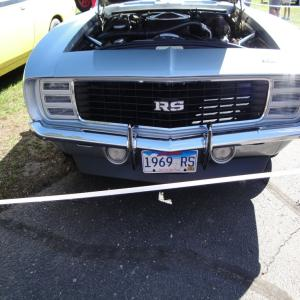Vehicle-registration-plate: (142, 150, 200, 175)
